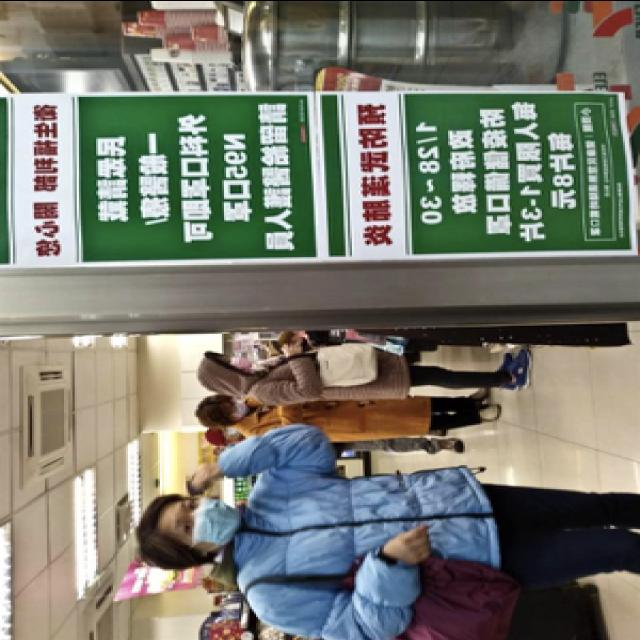mask: (168, 494, 246, 546), (224, 394, 250, 421), (220, 352, 252, 368), (218, 422, 242, 437)
